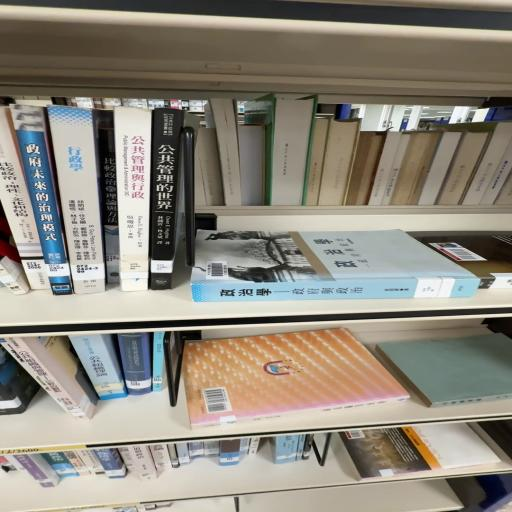flat: (184, 329, 410, 429), (192, 231, 480, 303), (340, 424, 501, 480)
